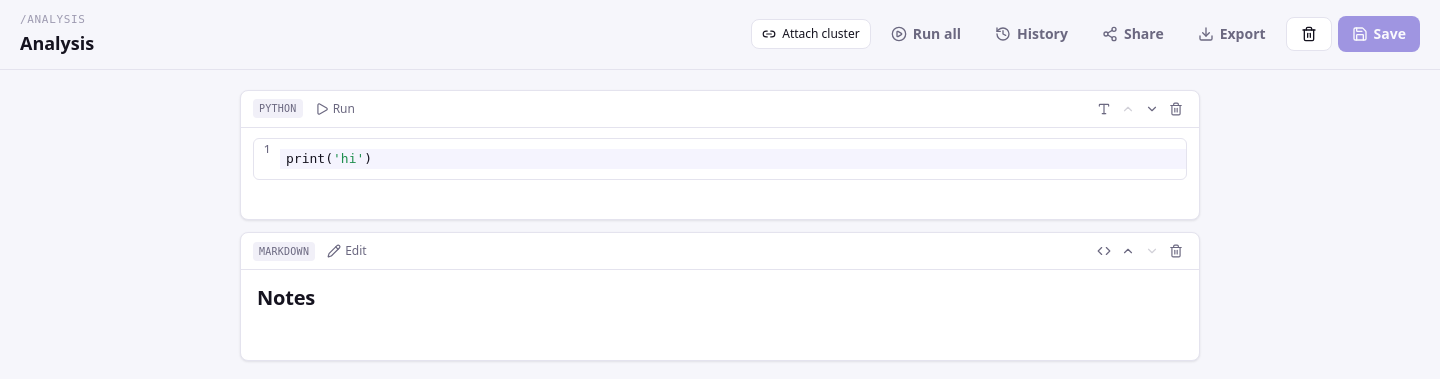
Test case: NotebookEditor — cell editing › converts a code cell to markdown
Expected: the heading "Analysis" is shown, [20,28,94,56]
Click the button named "convert to markdown".
click(1104, 108)  # box [1093,98,1115,120]
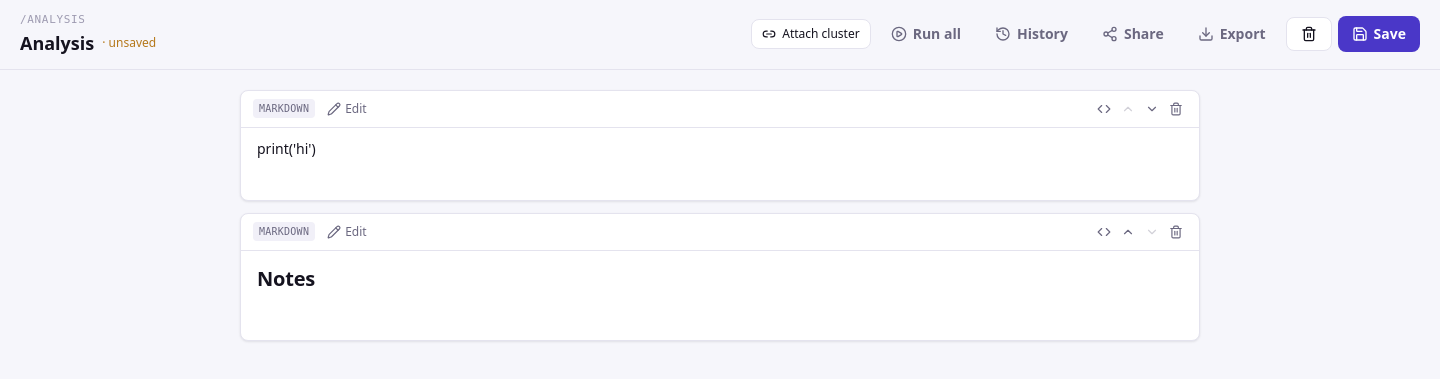
Now the button with aria-label "markdown cell 1" is shown, box [321,96,373,120]
